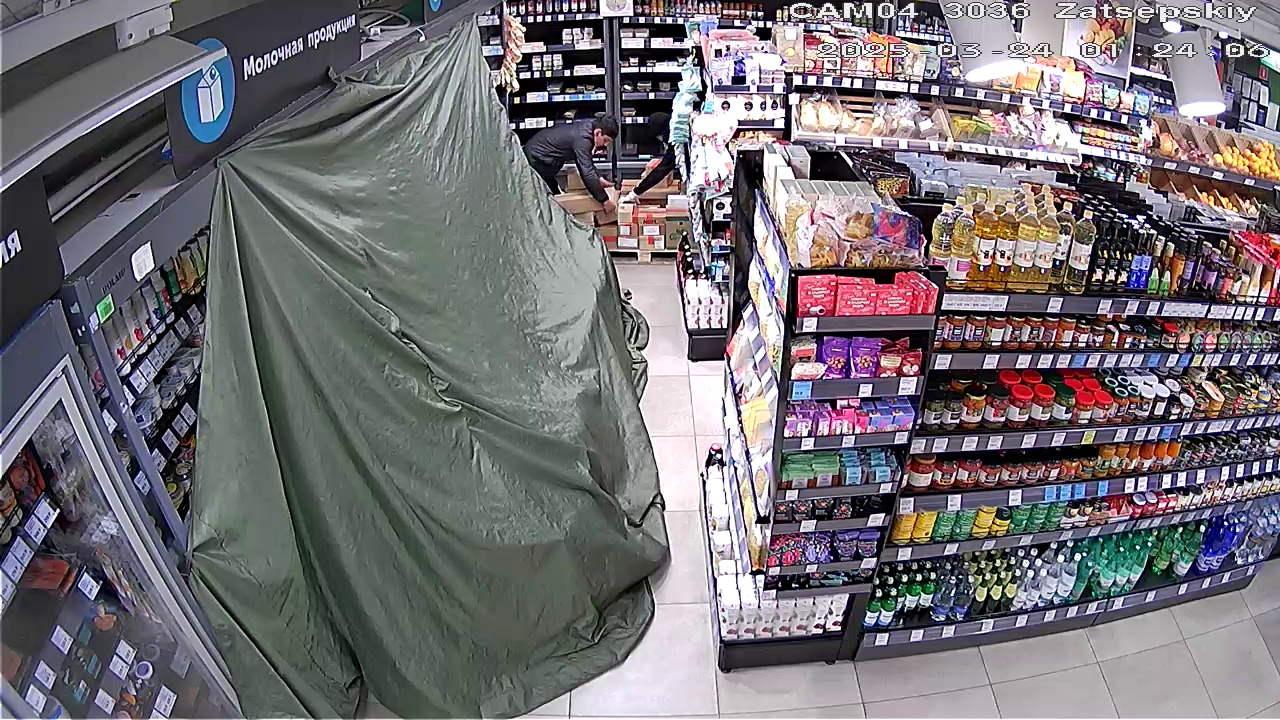Human: (509, 92, 625, 222), (637, 106, 681, 201)
dome: (213, 7, 662, 719)
pallet: (564, 165, 695, 249)
